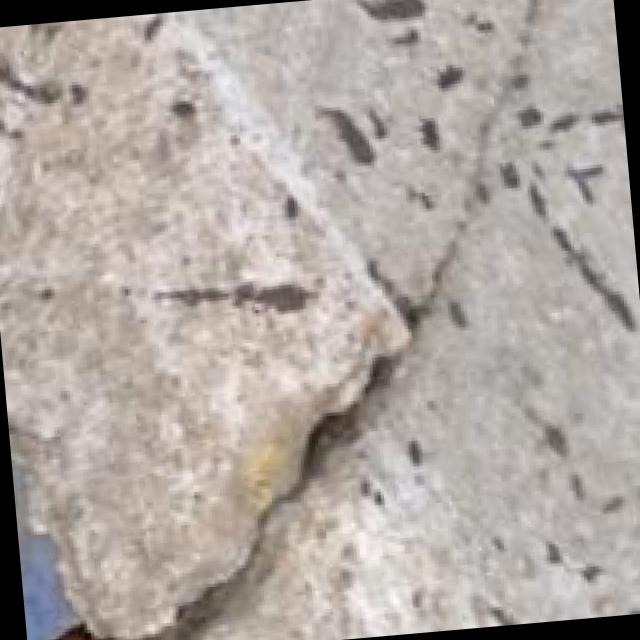crack: (8, 311, 554, 640)
